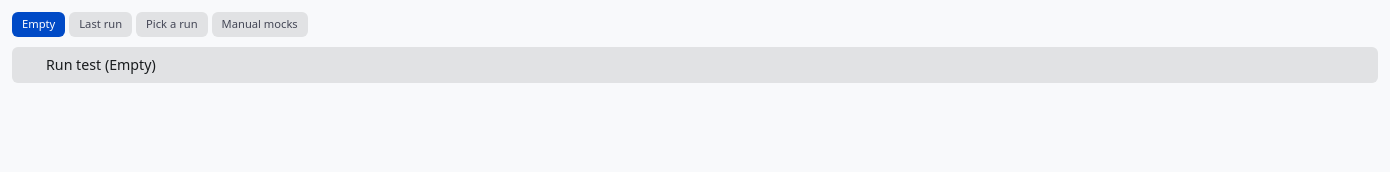
Test: StepTestPanel › Pick-a-run mode disables Run until a run is chosen
Click the button "Pick a run" at (172, 24), box [136, 12, 208, 36]
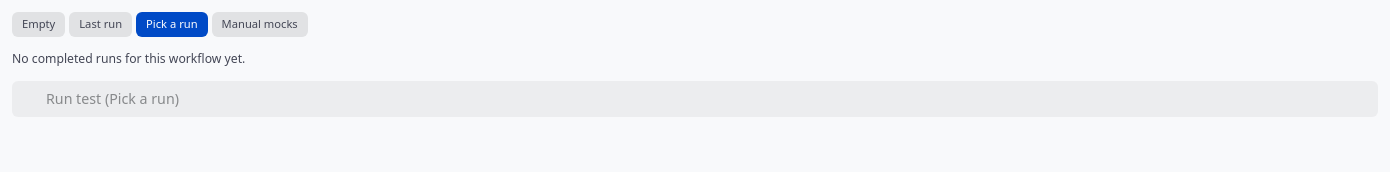
Expected: the button "Run test (Pick a run)" is disabled, [12, 80, 1378, 116]
